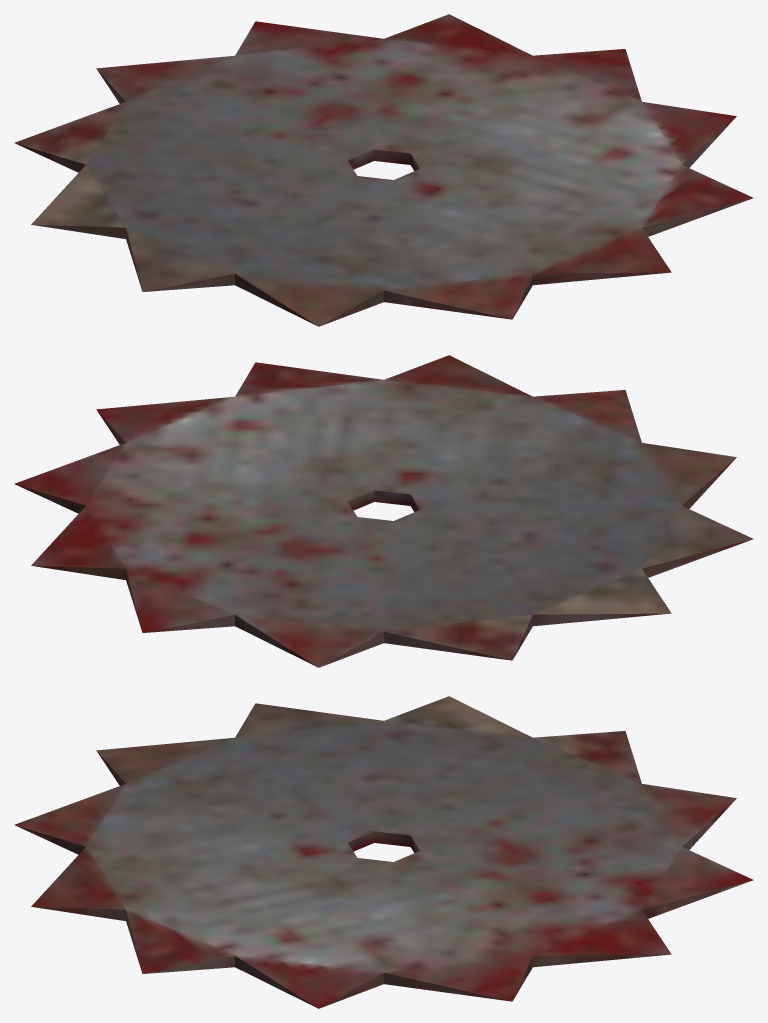
File: SawBlade_S.FBX
3 views of the same model, one above another, from view 1: azimuth 30°, elevation 25°; view 2: azimuth 150°, elevation 25°; view 3: azimuth 270°, elevation 25° (orthographic).
Parts seen in each view (by area): view 1: SawBlade_S; view 2: SawBlade_S; view 3: SawBlade_S.
Part boxes in pixels (x1,y1,x2,y2): SawBlade_S: (14, 14, 753, 326); SawBlade_S: (14, 355, 753, 667); SawBlade_S: (14, 696, 753, 1008).
Bounding box in the file's own units: 35.24 × 0.6068 × 35.24.
